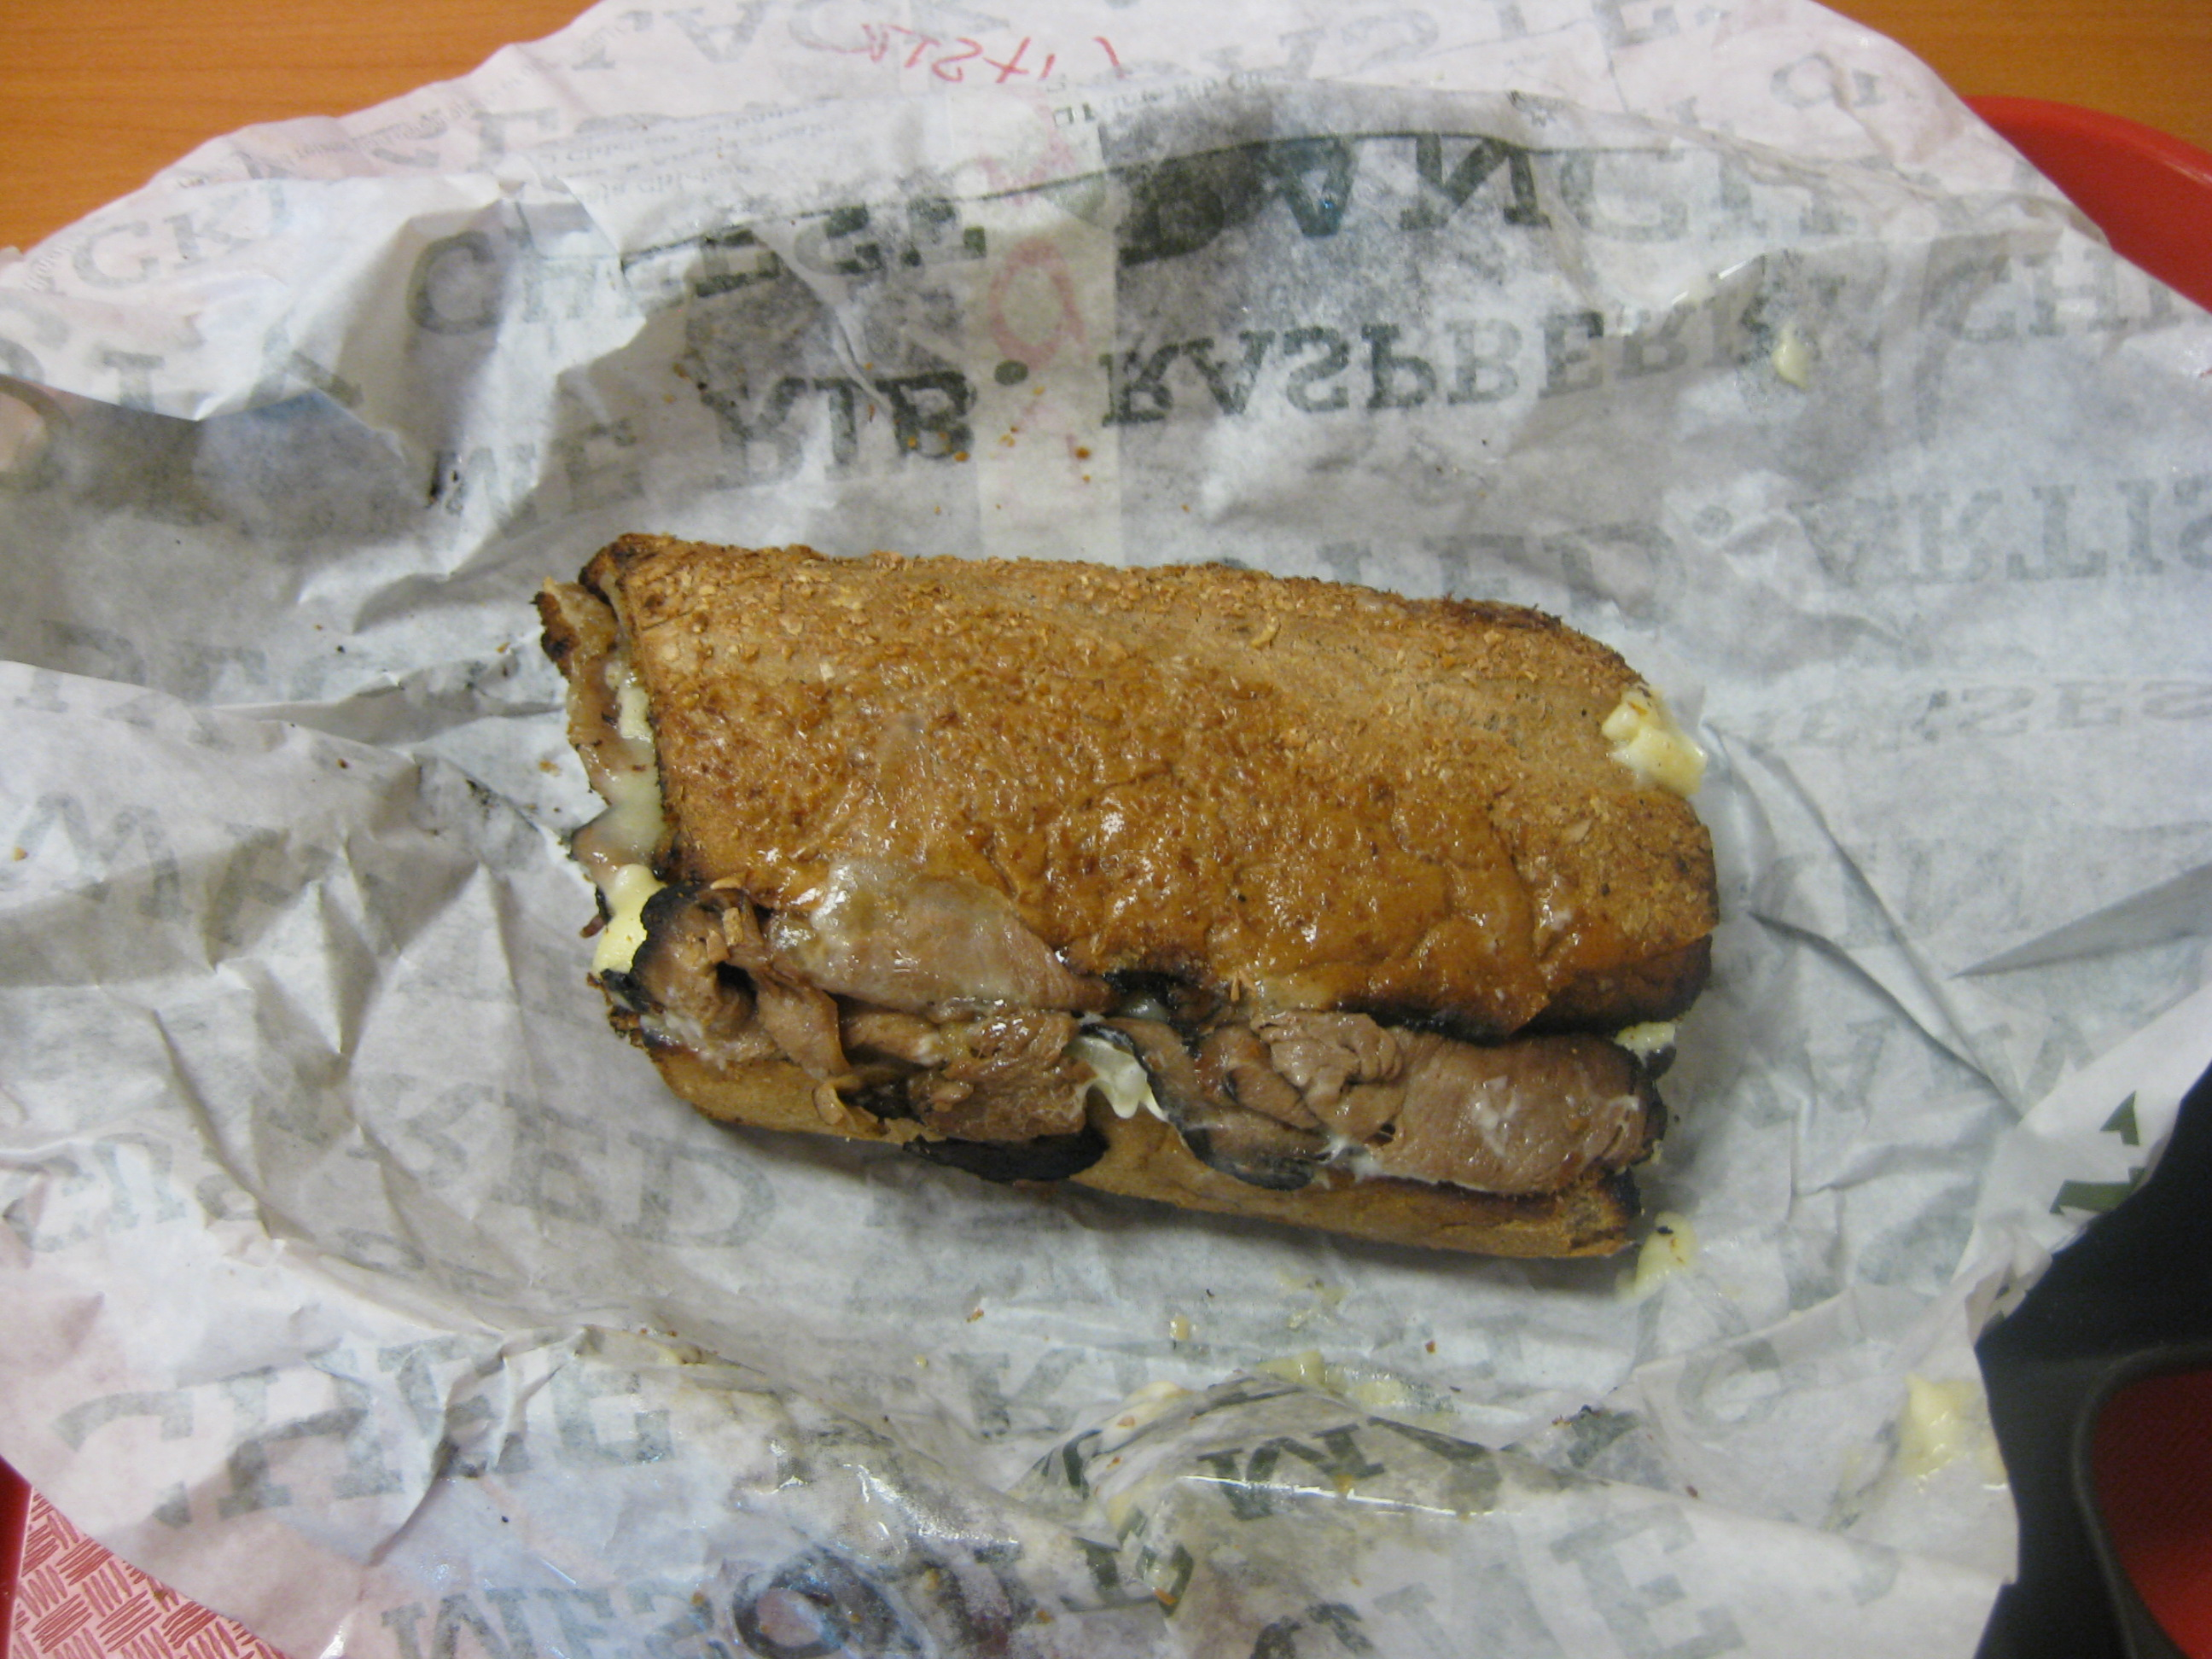sub: (527, 492, 1799, 1302)
